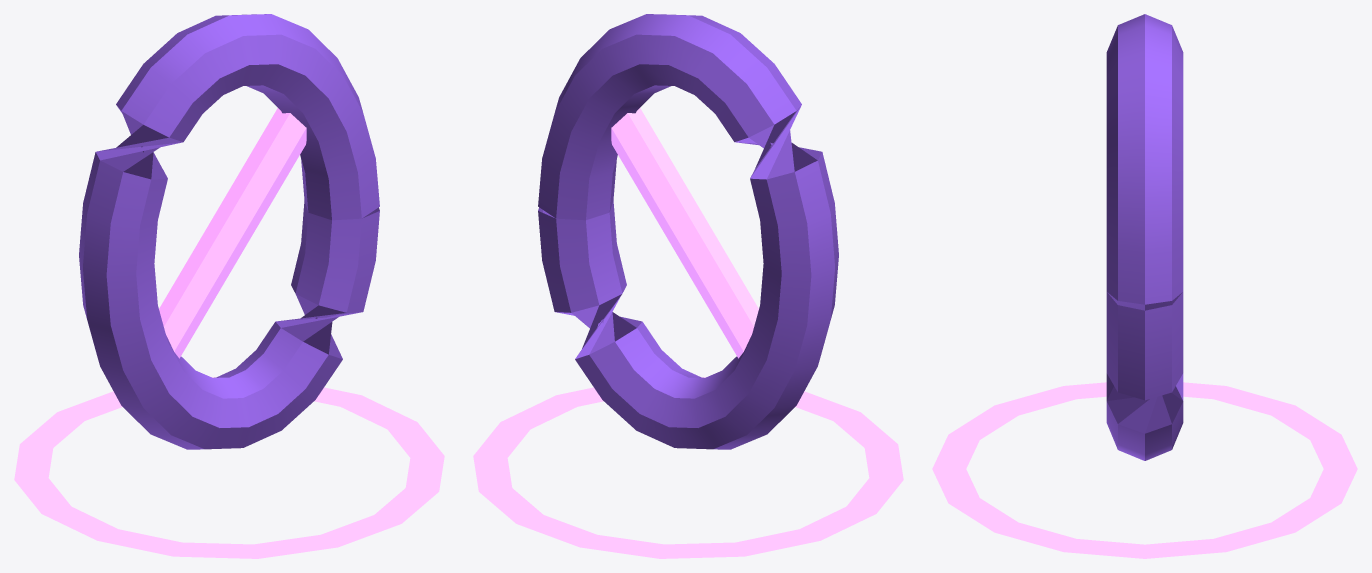
3 renders of one model, left to right at view 1: azimuth 30°, elevation 25°; view 2: azimuth 150°, elevation 25°; view 3: azimuth 270°, elevation 25°, orthographic. The views are drawn at different scales.
Parts seen in each view (by area): view 1: emblem_cero.lod1; view 2: emblem_cero.lod1; view 3: emblem_cero.lod1.
Part boxes in pixels (bbox=[...]): emblem_cero.lod1: bbox=[14, 14, 444, 558]; emblem_cero.lod1: bbox=[473, 14, 903, 558]; emblem_cero.lod1: bbox=[932, 14, 1357, 558].
Bounding box in the file's own units: 1 × 1.15 × 1.
